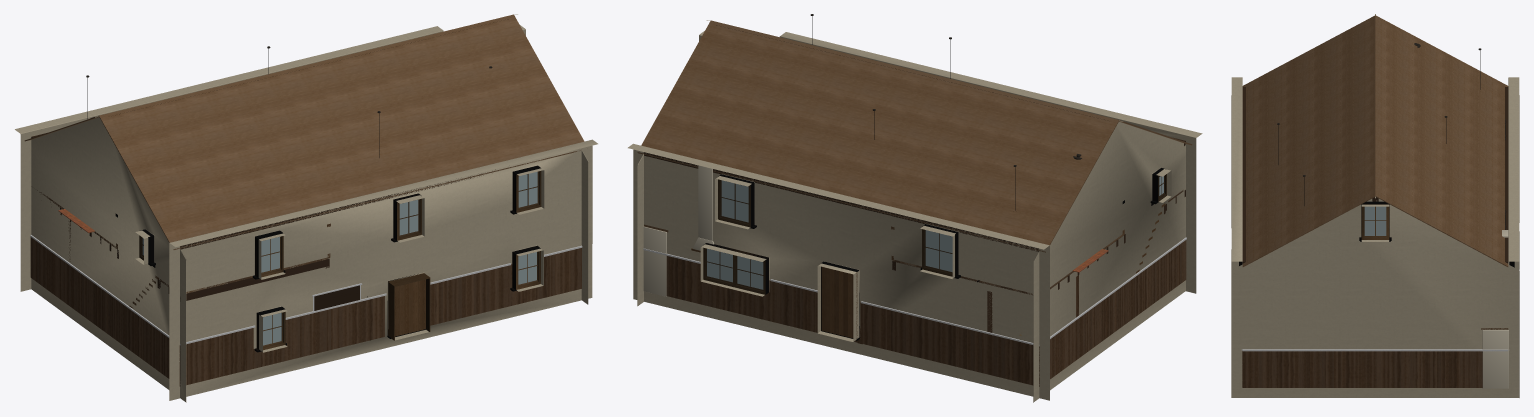
The model's file is cabin.opt.glb.
3 views of the same model, side by side, from view 1: azimuth 30°, elevation 25°; view 2: azimuth 150°, elevation 25°; view 3: azimuth 270°, elevation 25° (orthographic). The views are drawn at different scales.
Visible parts, largest first — view 1: cabin_atlas, cabin_wood_v, cabin_glass, cabin_wood_dark_v; view 2: cabin_atlas, cabin_glass, cabin_wood_v, cabin_wood_dark_v; view 3: cabin_atlas, cabin_wood_dark_v, cabin_glass, cabin_wood_v.
Boxes of the visible parts, left/top/right/bottom form: cabin_atlas: left=15, top=14, right=597, bottom=402; cabin_wood_v: left=115, top=165, right=541, bottom=352; cabin_glass: left=142, top=171, right=537, bottom=345; cabin_wood_dark_v: left=30, top=235, right=582, bottom=345; cabin_atlas: left=628, top=14, right=1202, bottom=402; cabin_glass: left=707, top=176, right=1163, bottom=289; cabin_wood_v: left=703, top=168, right=1166, bottom=340; cabin_wood_dark_v: left=643, top=237, right=1186, bottom=345; cabin_atlas: left=1231, top=14, right=1519, bottom=397; cabin_wood_dark_v: left=1241, top=349, right=1509, bottom=351; cabin_glass: left=1364, top=206, right=1386, bottom=235; cabin_wood_v: left=1239, top=201, right=1514, bottom=267.
Size of the model in its own units: 12.87 by 6.68 by 8.51.
Materials: 134 (114 with a texture image).
